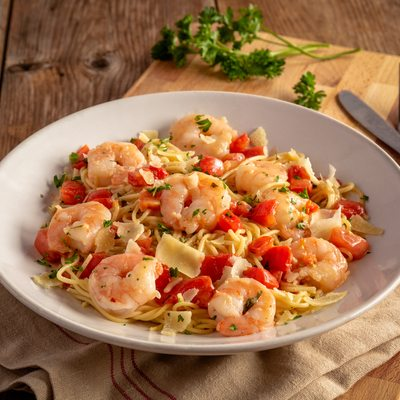curry: (150, 1, 287, 82)
sandwich: (336, 88, 400, 156)
